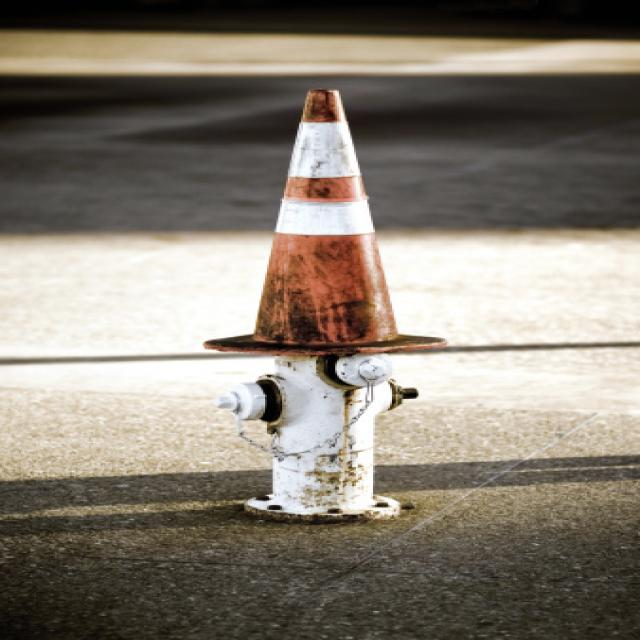cone: (202, 88, 447, 358)
